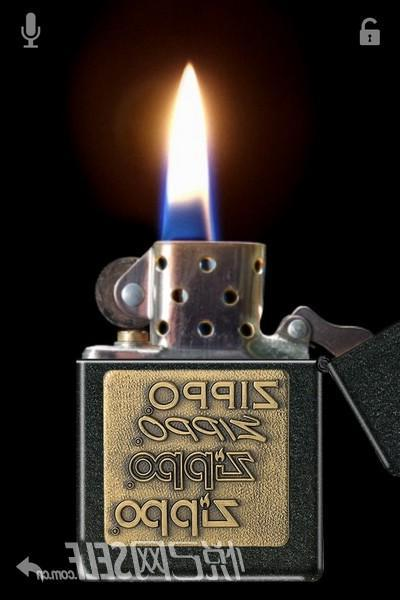fire: (154, 57, 228, 255)
